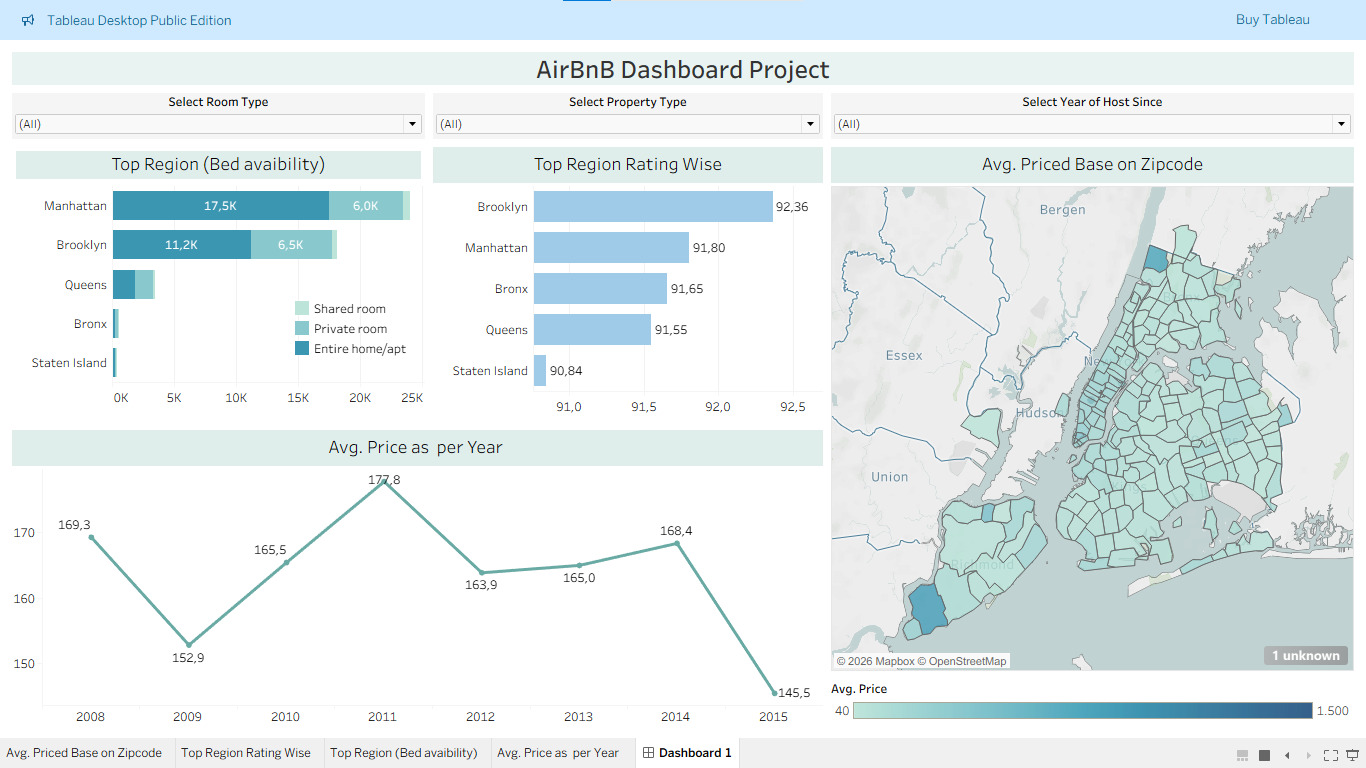

The dashboard page shown, as its layout file describes it:
{"tool":"tableau","page":{"name":"Dashboard 1","canvas":[1000,1000],"units":"permille","ordinal":0},"visuals":[{"type":"title","box":[6.9,14.5,986.1,74.3]},{"type":"filter","title":"Top Region Rating Wise","param":"[federated.0lppvlh0yu52ot1fa75z50m000oh].[none:Room Type:nk]","box":[6.9,88.8,307.6,76.1]},{"type":"filter","title":"Top Region (Bed avaibility)","param":"[federated.0lppvlh0yu52ot1fa75z50m000oh].[none:Property Type:nk]","box":[314.5,88.8,290.6,76.1]},{"type":"filter","title":"Top Region (Bed avaibility)","param":"[federated.0lppvlh0yu52ot1fa75z50m000oh].[yr:Host Since:ok]","box":[605.1,88.8,388,76.1]},{"type":"worksheet","title":"Top Region (Bed avaibility)","mark":"Automatic","rows":["Neighbourhood"],"cols":["Beds"],"box":[6.9,164.9,307.6,394.8]},{"type":"worksheet","title":"Top Region Rating Wise","mark":"Automatic","rows":["Neighbourhood"],"cols":["Review Scores Rating"],"box":[314.5,164.9,290.6,394.8]},{"type":"worksheet","title":"Avg. Priced Base on Zipcode","mark":"Automatic","box":[605.1,164.9,388,744.6]},{"type":"legend","title":"Top Region (Bed avaibility)","param":"[federated.0lppvlh0yu52ot1fa75z50m000oh].[none:Room Type:nk]","box":[213.5,369.6,89.2,123.2]},{"type":"worksheet","title":"Avg. Price as  per Year ","mark":"Automatic","rows":["Price"],"cols":["Host Since"],"box":[6.9,559.7,598.1,425.8]},{"type":"legend","title":"Avg. Priced Base on Zipcode","param":"[federated.0lppvlh0yu52ot1fa75z50m000oh].[avg:Price:qk]","box":[605.1,909.5,388,76]}]}

Visuals, with their boxes on the dashboard's canvas, which has no fixed pixel size, in thousandths of its width and height (x1, y1, x2, y2). These are canvas units, not pixel positions in the 1366x768 screenshot, which may show the page scaled, cropped or inside an application window:
title: 7:14:993:89
"Top Region Rating Wise" filter: 7:89:314:165
"Top Region (Bed avaibility)" filter: 314:89:605:165
"Top Region (Bed avaibility)" filter: 605:89:993:165
"Top Region (Bed avaibility)" worksheet: 7:165:314:560
"Top Region Rating Wise" worksheet: 314:165:605:560
"Avg. Priced Base on Zipcode" worksheet: 605:165:993:910
"Top Region (Bed avaibility)" legend: 214:370:303:493
"Avg. Price as  per Year " worksheet: 7:560:605:986
"Avg. Priced Base on Zipcode" legend: 605:910:993:986
